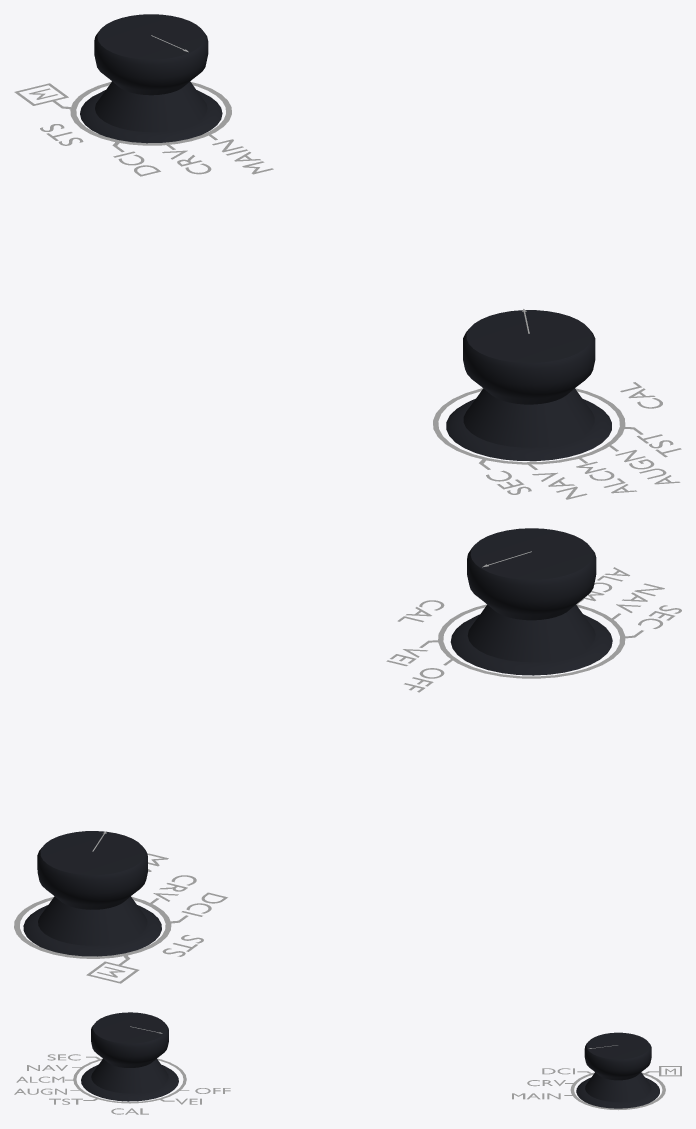
File: modes.fbx
3 views of the same model, one above another, from view 1: azimuth 30°, elevation 25°; view 2: azimuth 150°, elevation 25°; view 3: azimuth 270°, elevation 25° (orthographic). The views are drawn at different scales.
Visible parts, largest first — view 1: modes.knob0, modes.knob1, modes.texte; view 2: modes.knob0, modes.knob1, modes.texte; view 3: modes.knob0, modes.knob1, modes.texte.
Part boxes in pixels (bbox=[...]): modes.knob0: bbox=[446, 309, 611, 461]; modes.knob1: bbox=[80, 14, 222, 143]; modes.texte: bbox=[14, 81, 681, 499]; modes.knob0: bbox=[450, 528, 612, 675]; modes.knob1: bbox=[23, 831, 161, 956]; modes.texte: bbox=[14, 567, 681, 983]; modes.knob0: bbox=[81, 1012, 178, 1101]; modes.knob1: bbox=[576, 1032, 659, 1108]; modes.texte: bbox=[14, 1054, 681, 1114].
Bounding box in the file's own units: 1.62 × 7.61 × 0.6837.
